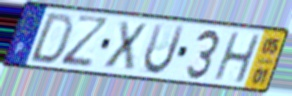3: (182, 28, 222, 82)
D: (26, 11, 76, 66)
H: (210, 31, 262, 86)
U: (142, 21, 188, 77)
X: (102, 19, 150, 71)
Z: (58, 12, 113, 69)
